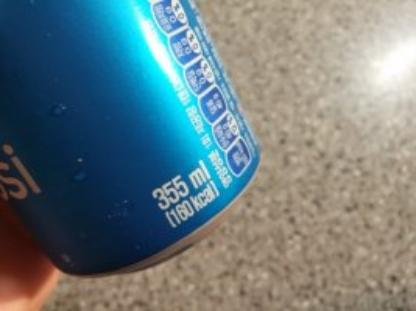Can: (0, 0, 260, 282)
